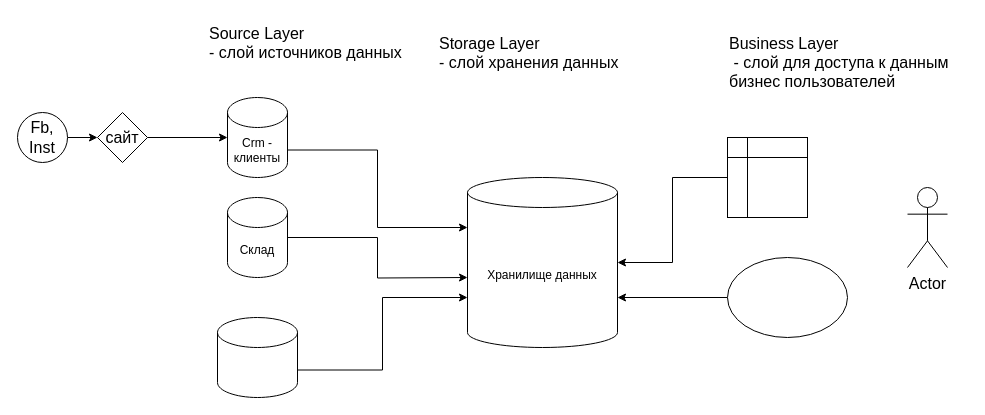
This 985x415 diagram has some shape labels left out. Each missing label, with the box of its shape:
BI: (726, 256, 848, 338)
Exсel: (726, 136, 808, 218)
Поставщики/цены: (216, 316, 298, 398)
